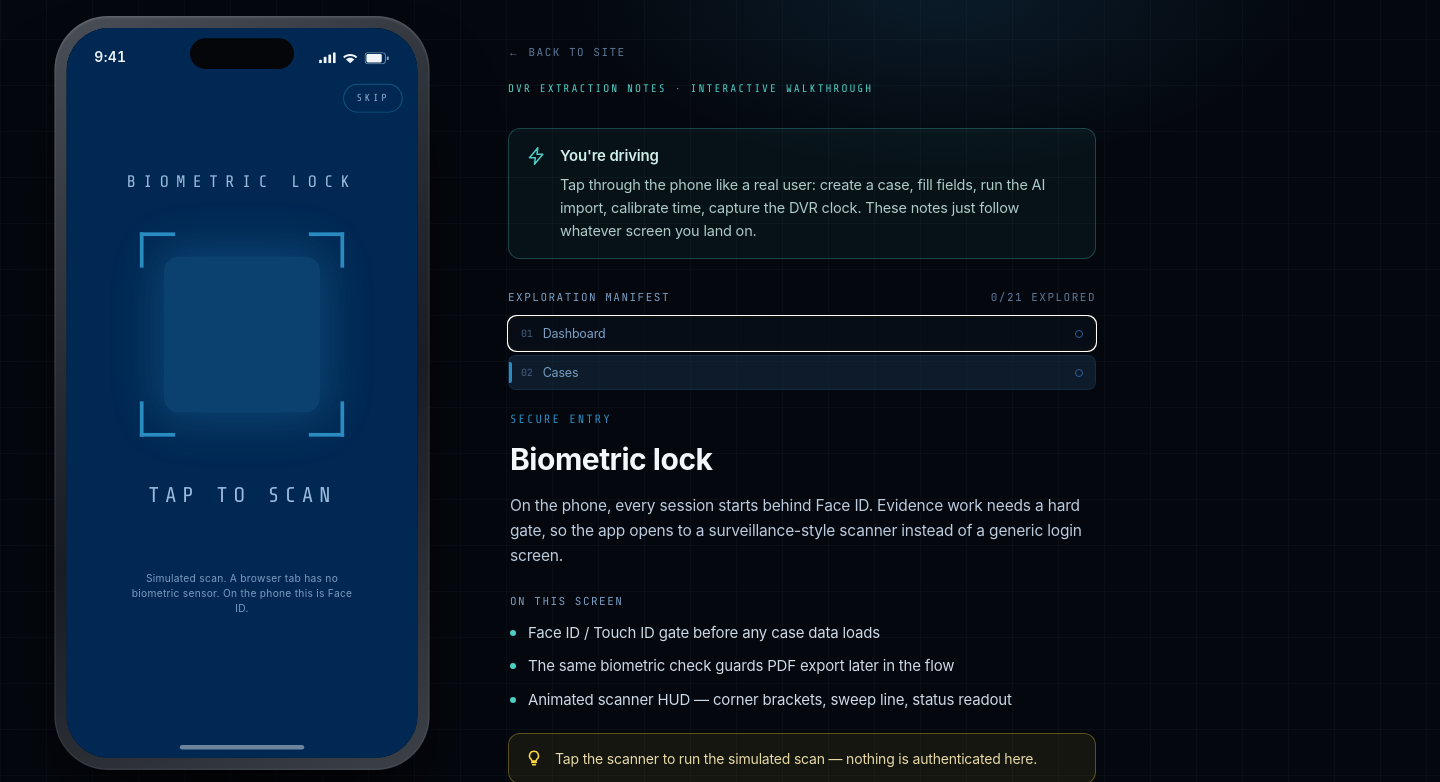
Test: DemoExperience — boot gate › leaves focus alone when the visitor ended the boot from the rail (S3)
Click the button with aria-label "Dashboard, not visited yet" at (574, 334), box x1=508 y1=316 x2=1096 y2=351
(page scrolled)
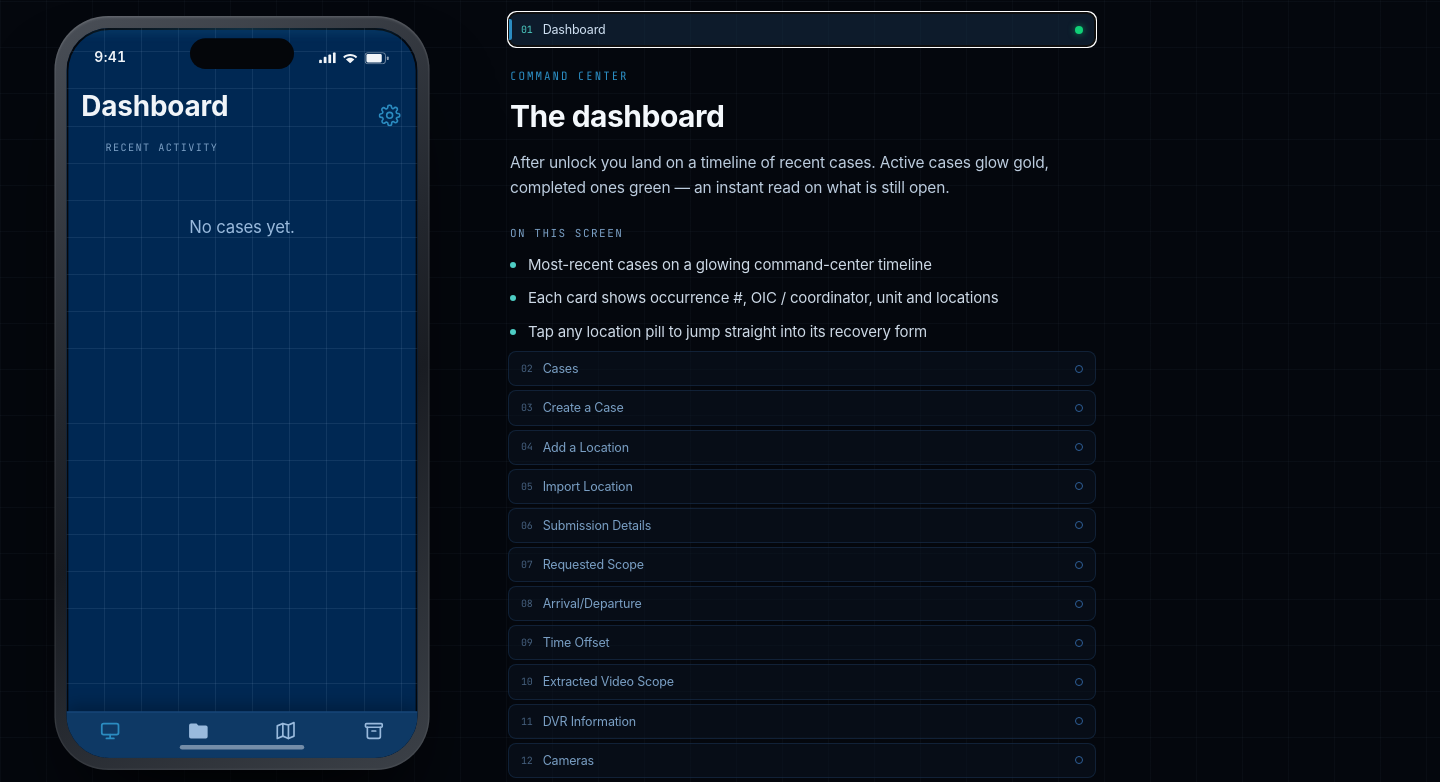
expect the element with test id "demo-boot" is gone: met
